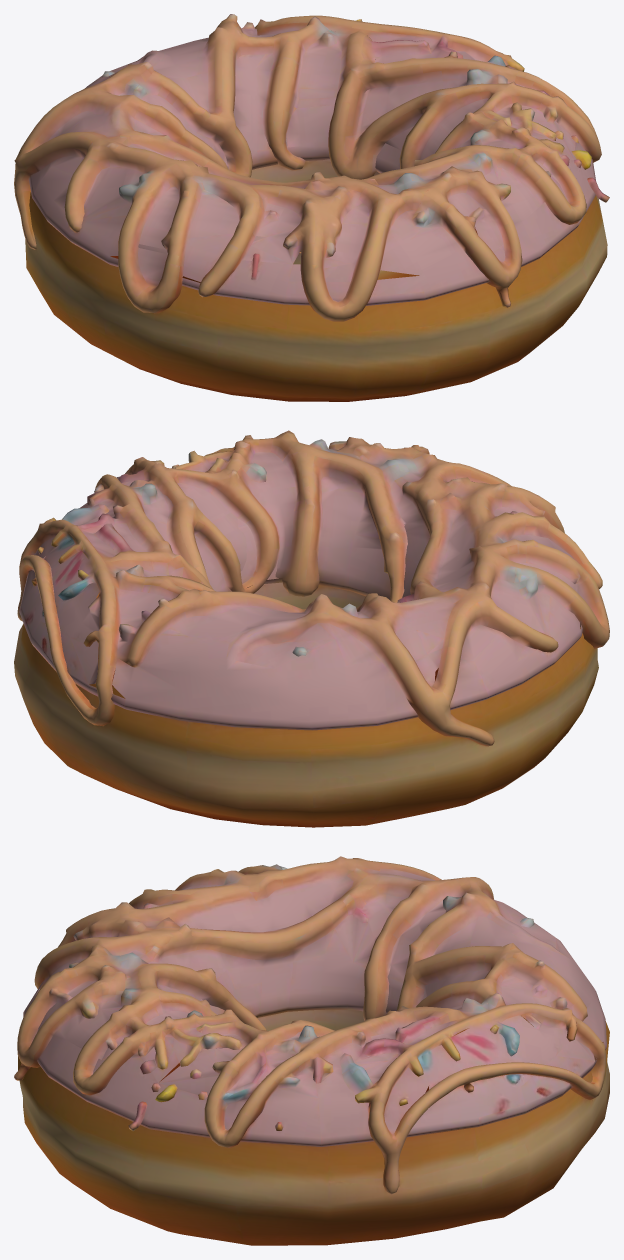
File: Pink_Frosted_Donut_With_Sprinkles-optimized.glb
3 renders of one model, top to bottom at view 1: azimuth 30°, elevation 25°; view 2: azimuth 150°, elevation 25°; view 3: azimuth 270°, elevation 25°, orthographic.
Visible parts, largest first — view 1: Pink_Frosted_Donut_With_Sprinkles; view 2: Pink_Frosted_Donut_With_Sprinkles; view 3: Pink_Frosted_Donut_With_Sprinkles.
Part boxes in pixels (x1=…): Pink_Frosted_Donut_With_Sprinkles: x1=14, y1=14, x2=609, y2=401; Pink_Frosted_Donut_With_Sprinkles: x1=14, y1=430, x2=609, y2=827; Pink_Frosted_Donut_With_Sprinkles: x1=14, y1=856, x2=609, y2=1245.
Size of the model in its own units: 0.979 by 0.4077 by 0.9995.
Materials: 1 (1 with a texture image).
